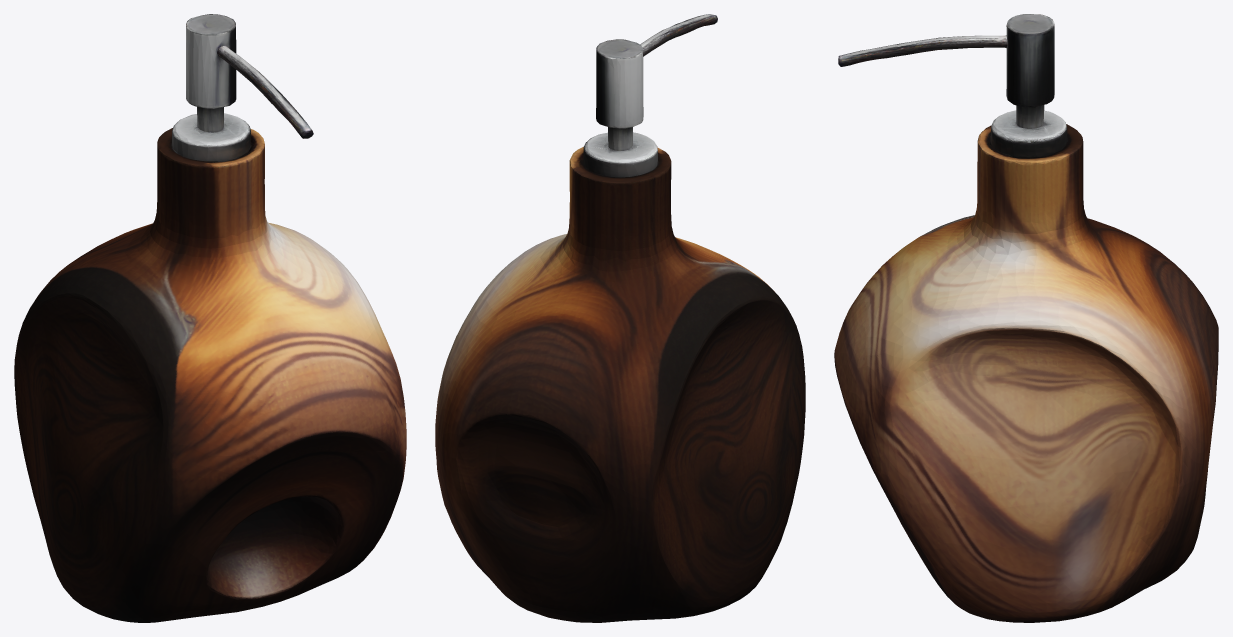
File: wooden-lotion-dispenser-futuristic.jpeg.glb
3 views of the same model, side by side, from view 1: azimuth 30°, elevation 25°; view 2: azimuth 150°, elevation 25°; view 3: azimuth 270°, elevation 25° (orthographic). The views are drawn at different scales.
Parts seen in each view (by area): view 1: world; view 2: world; view 3: world.
Boxes of the visible parts, x1,y1,x2,y2 form: world: (14,14,406,622); world: (435,14,805,622); world: (834,14,1218,622).
Size of the model in its own units: 0.5546 by 1 by 0.6464.
1 material, 1 textured.
